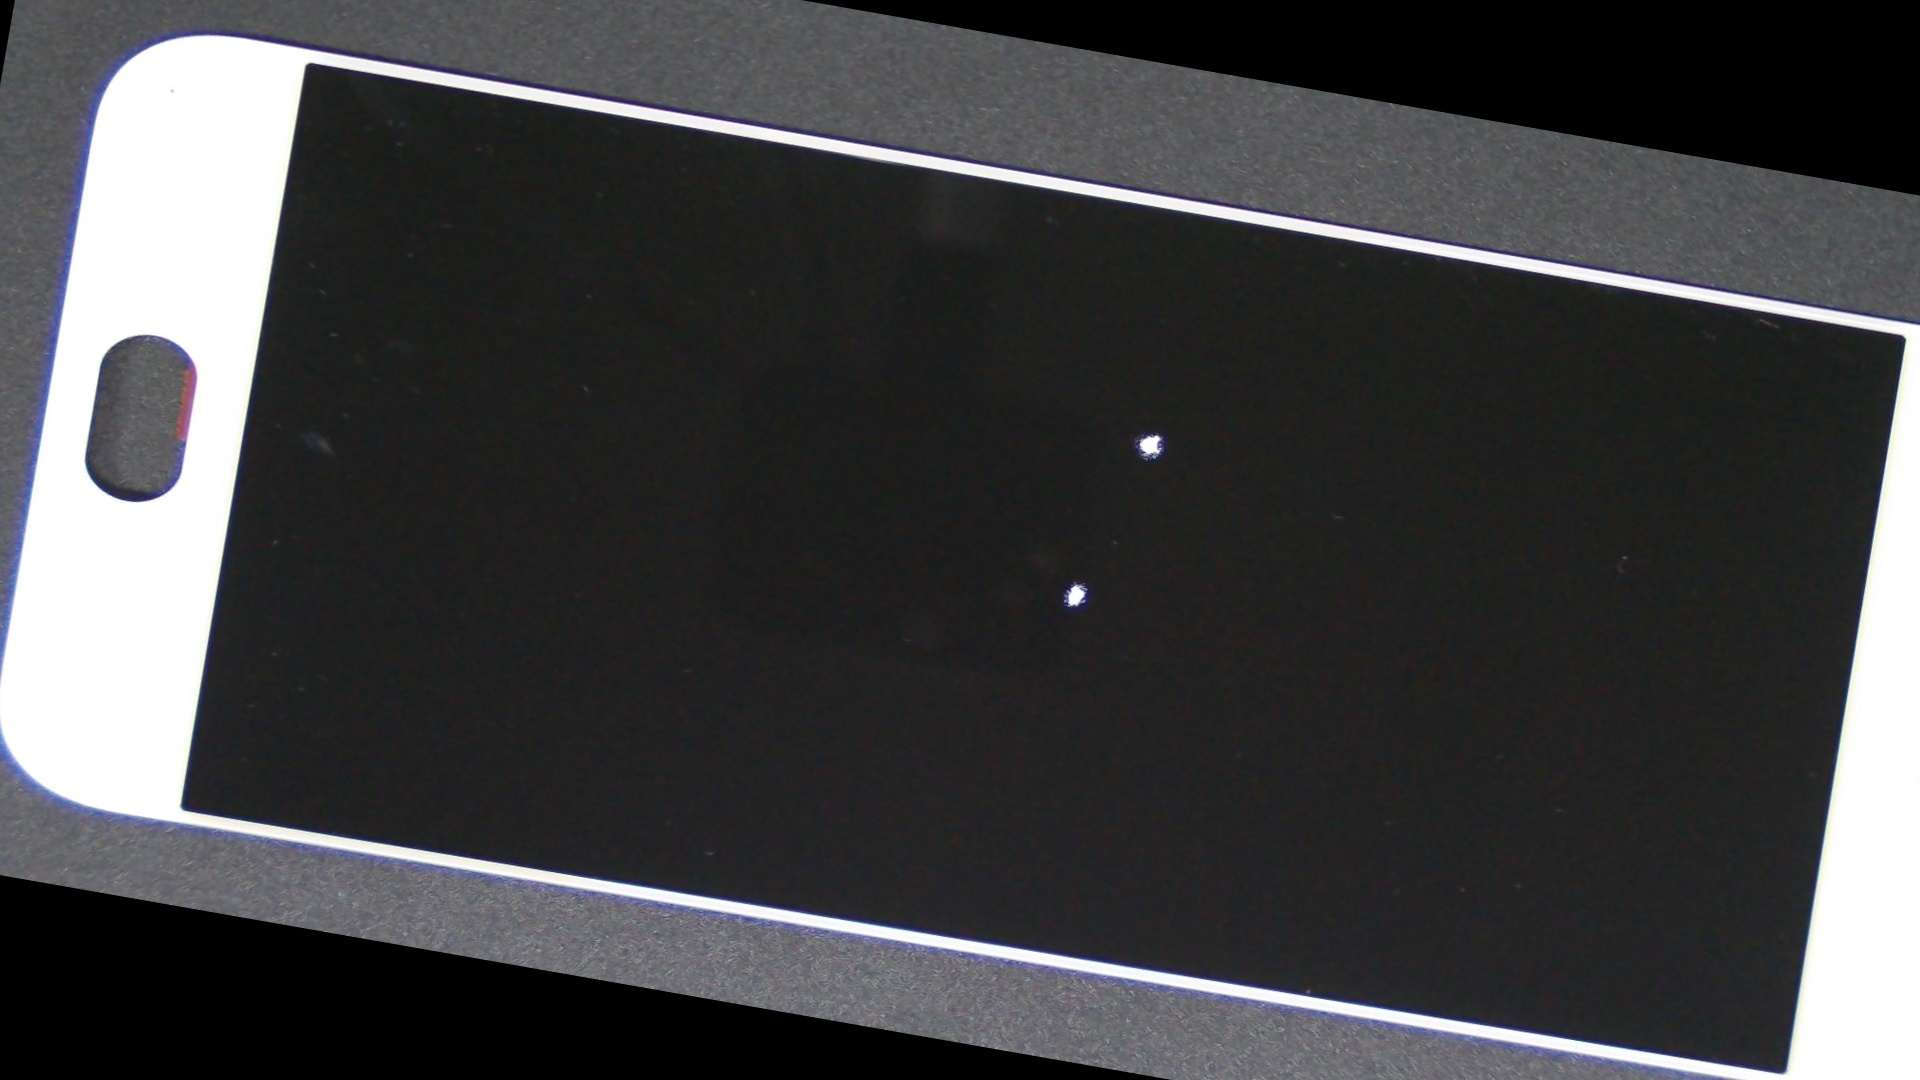oil: (467, 223, 1680, 936), (537, 149, 1783, 715)
